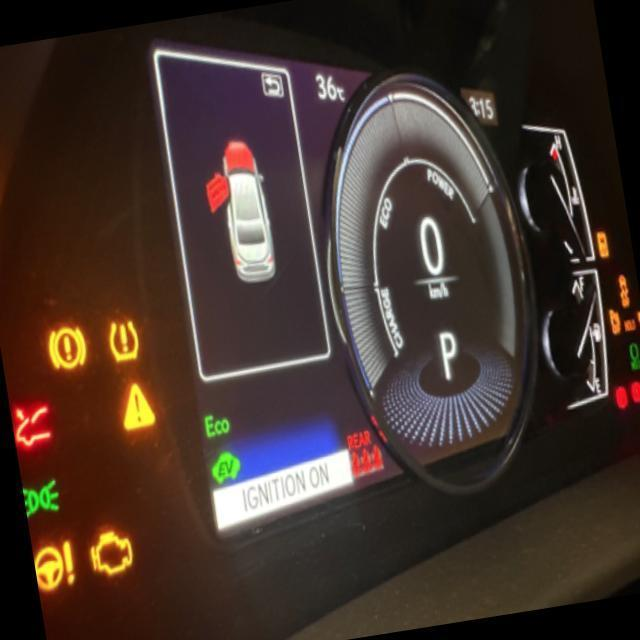Central Warning lamp: (113, 374, 163, 441)
